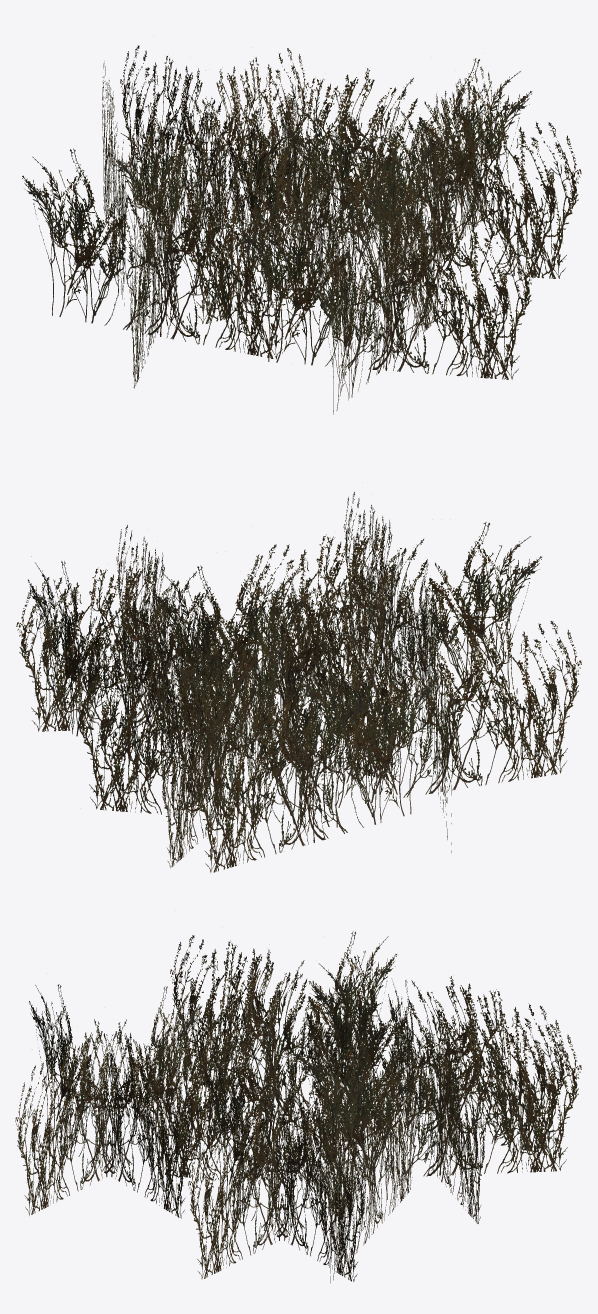
Rendered from bush8.FBX.
The picture shows the model from 3 angles, top to bottom: view 1: azimuth 30°, elevation 25°; view 2: azimuth 150°, elevation 25°; view 3: azimuth 270°, elevation 25°; orthographic projection. The views are drawn at different scales.
Visible parts, largest first — view 1: Box001; view 2: Box001; view 3: Box001.
Part boxes in pixels (x1,y1,x2,y2): Box001: (22, 45, 581, 414); Box001: (16, 492, 581, 872); Box001: (15, 931, 581, 1283).
Bounding box in the file's own units: 9.8 × 3.35 × 10.45.
